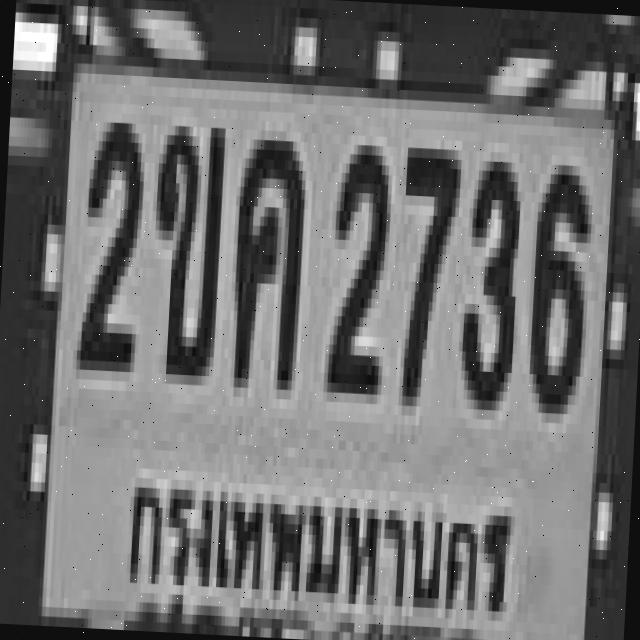11KhorKhai: (144, 116, 222, 377)
13KhorKhwai: (228, 129, 304, 381)
2: (74, 112, 144, 363), (324, 134, 387, 386)
3: (456, 150, 520, 402)
6: (524, 154, 588, 406)
7: (392, 138, 459, 398)
Bangkok: (119, 451, 525, 634)
